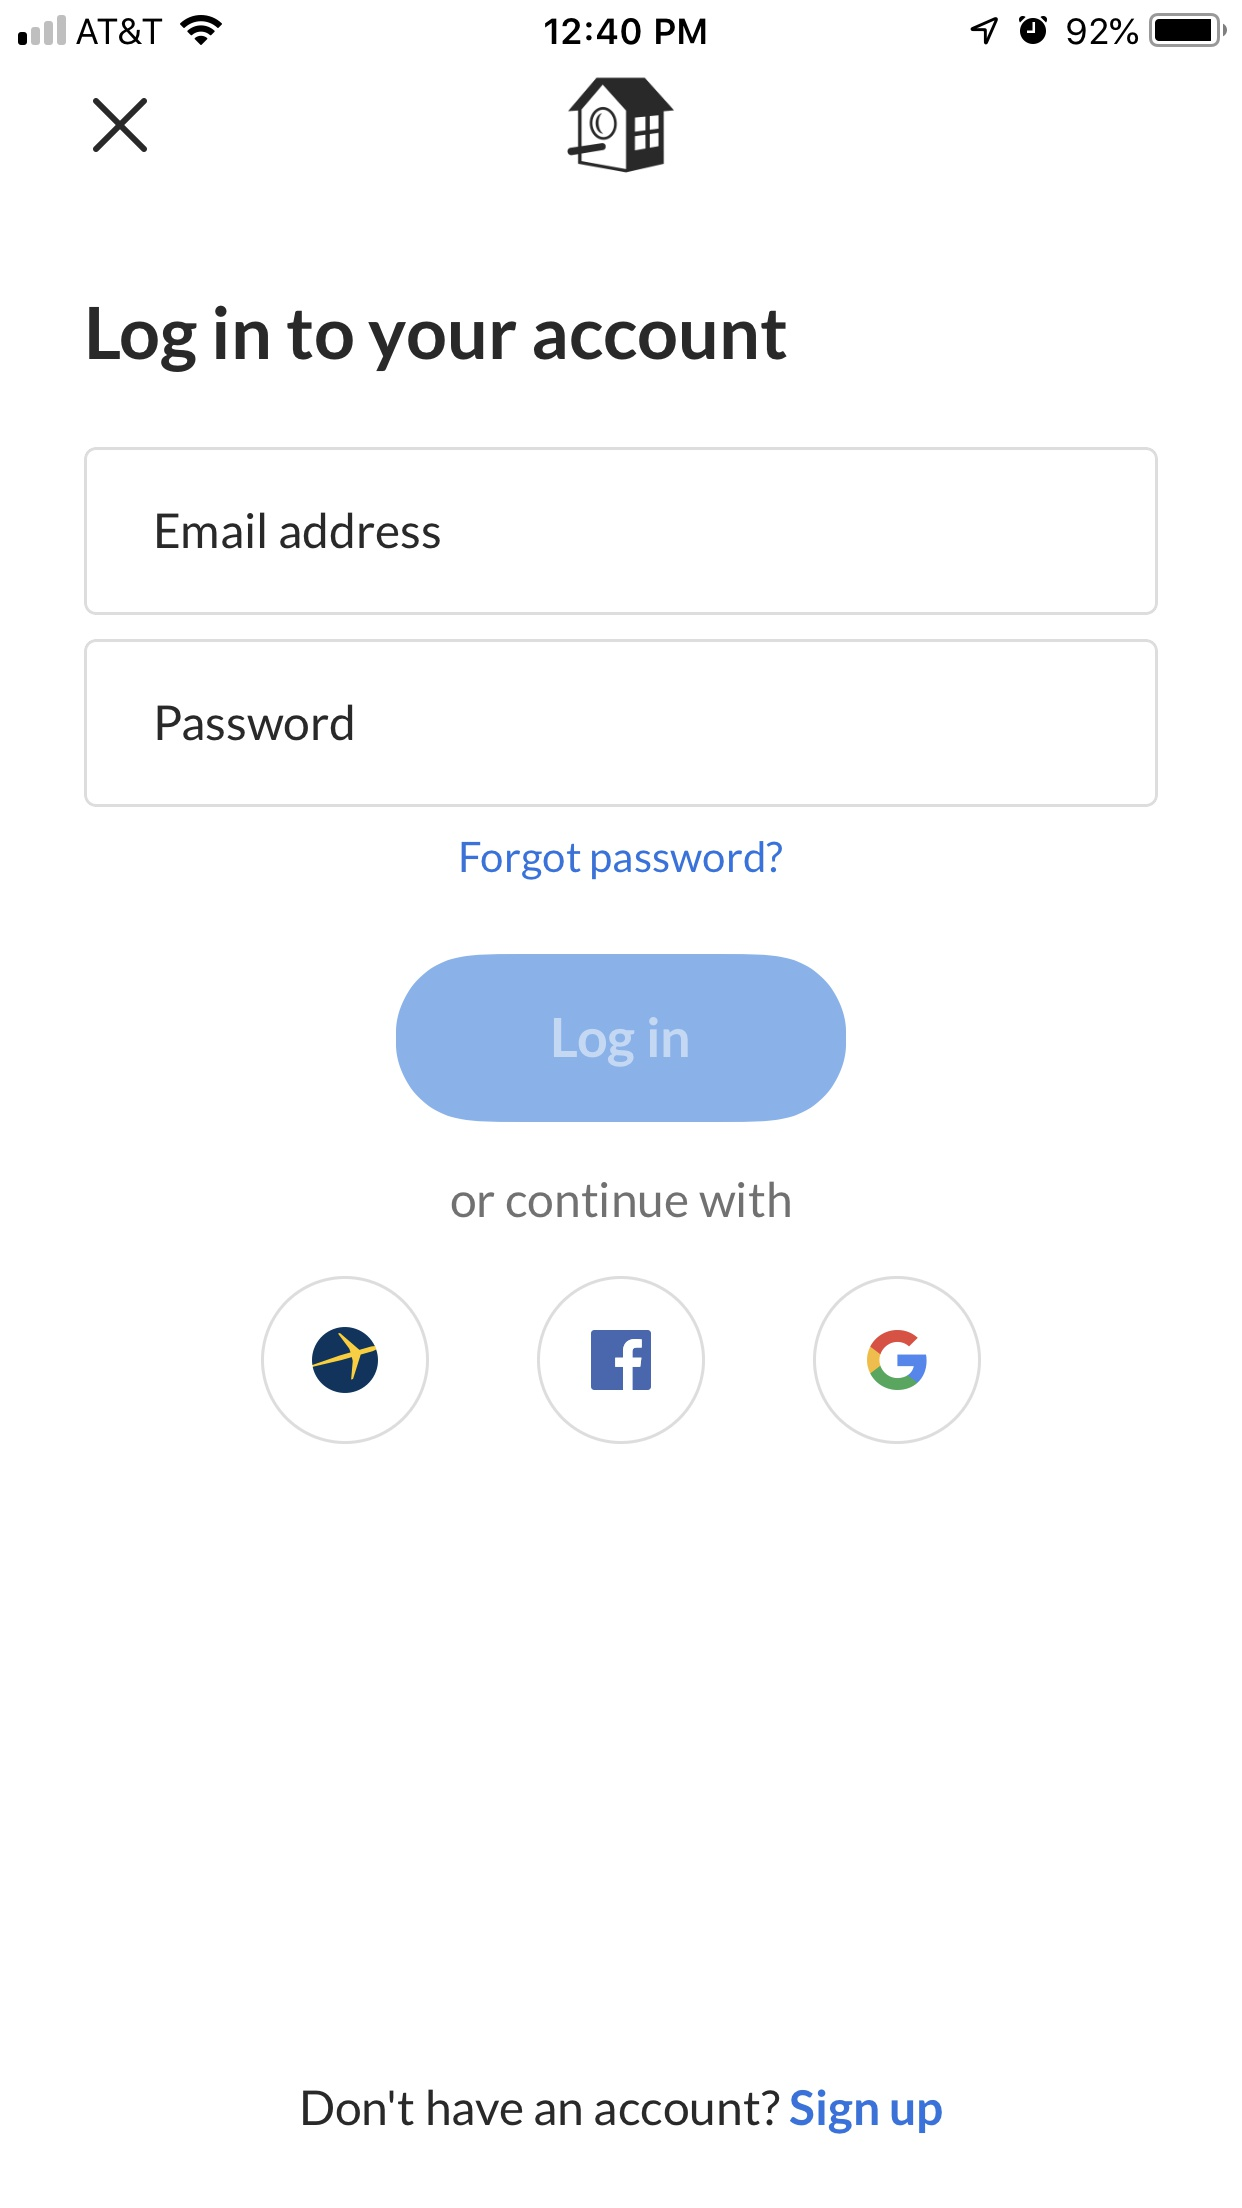EditText: (83, 638, 1159, 808), (85, 447, 1159, 616)
Icon: (537, 1275, 707, 1445), (813, 1275, 983, 1445), (567, 76, 675, 174), (93, 99, 149, 155)
Image: (261, 1275, 431, 1445)
Text: (89, 306, 789, 375), (303, 2090, 943, 2135), (450, 1181, 792, 1219), (461, 842, 783, 881), (158, 513, 441, 550), (158, 705, 353, 742)
TextButton: (396, 954, 848, 1124)
UpperTaskBar: (2, 2, 1242, 49)
